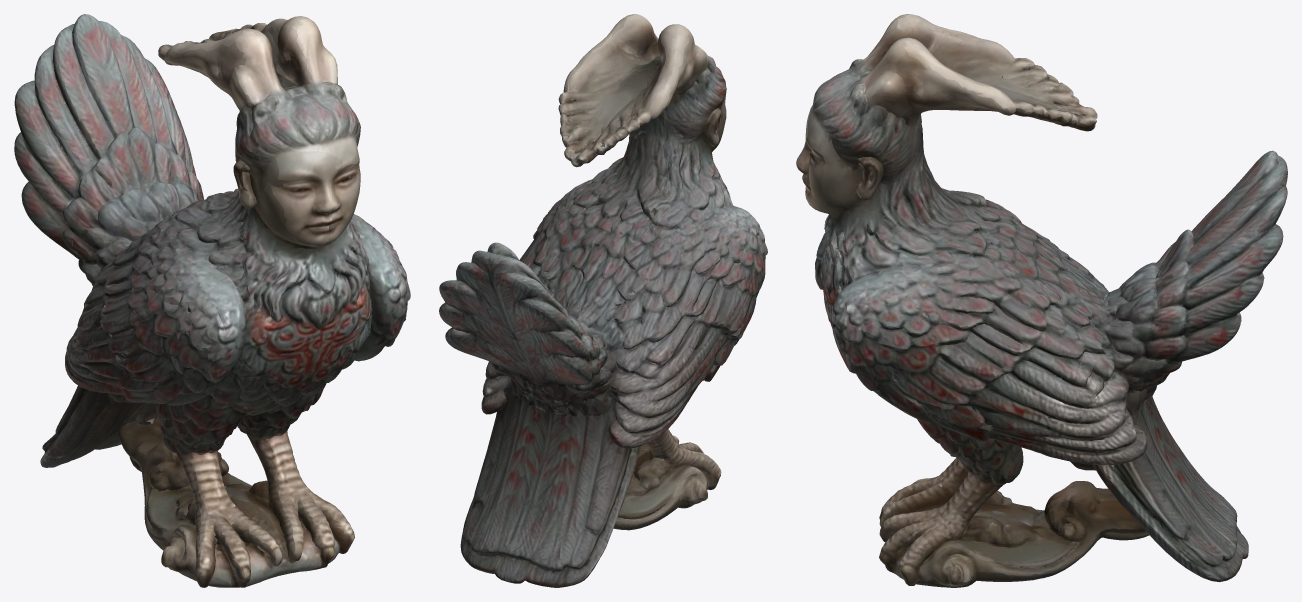
File: yanzhi.glb
3 views of the same model, side by side, from view 1: azimuth 30°, elevation 25°; view 2: azimuth 150°, elevation 25°; view 3: azimuth 270°, elevation 25° (orthographic). The views are drawn at different scales.
Visible parts, largest first — view 1: geometry_0; view 2: geometry_0; view 3: geometry_0.
Part boxes in pixels (x1,y1,x2,y2): geometry_0: (14, 14, 410, 587); geometry_0: (439, 14, 767, 587); geometry_0: (796, 14, 1287, 587).
Size of the model in its own units: 0.2094 by 0.42 by 0.3547.
1 material, 1 textured.
